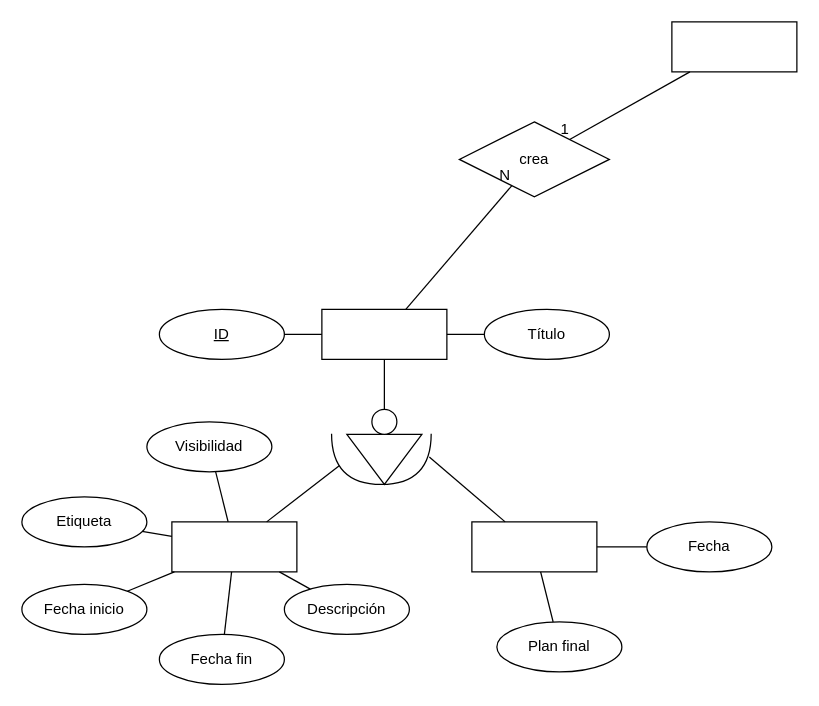
Image size: 819x706. Some labels were removed from this diagram. Here are the shapes that lost their labels. From the top down, the centre of each, then its label:
the point at 734,46: USUARIO
the point at 384,333: EVENTO
the point at 234,546: EVENTO PERSONAL
the point at 534,546: EVENTO GRUPAL
